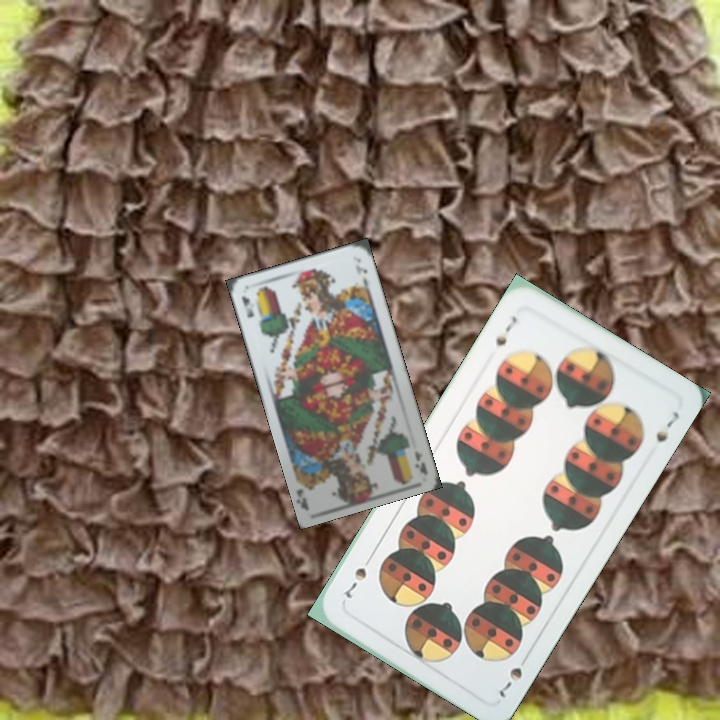EK: (411, 446, 431, 476), (237, 292, 257, 320)
S7: (493, 650, 530, 701), (491, 312, 520, 349)
